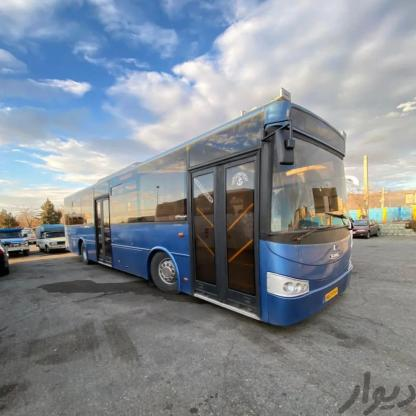Bus: (62, 95, 357, 332)
Car: (0, 226, 29, 256), (41, 220, 68, 251), (350, 218, 387, 237)
